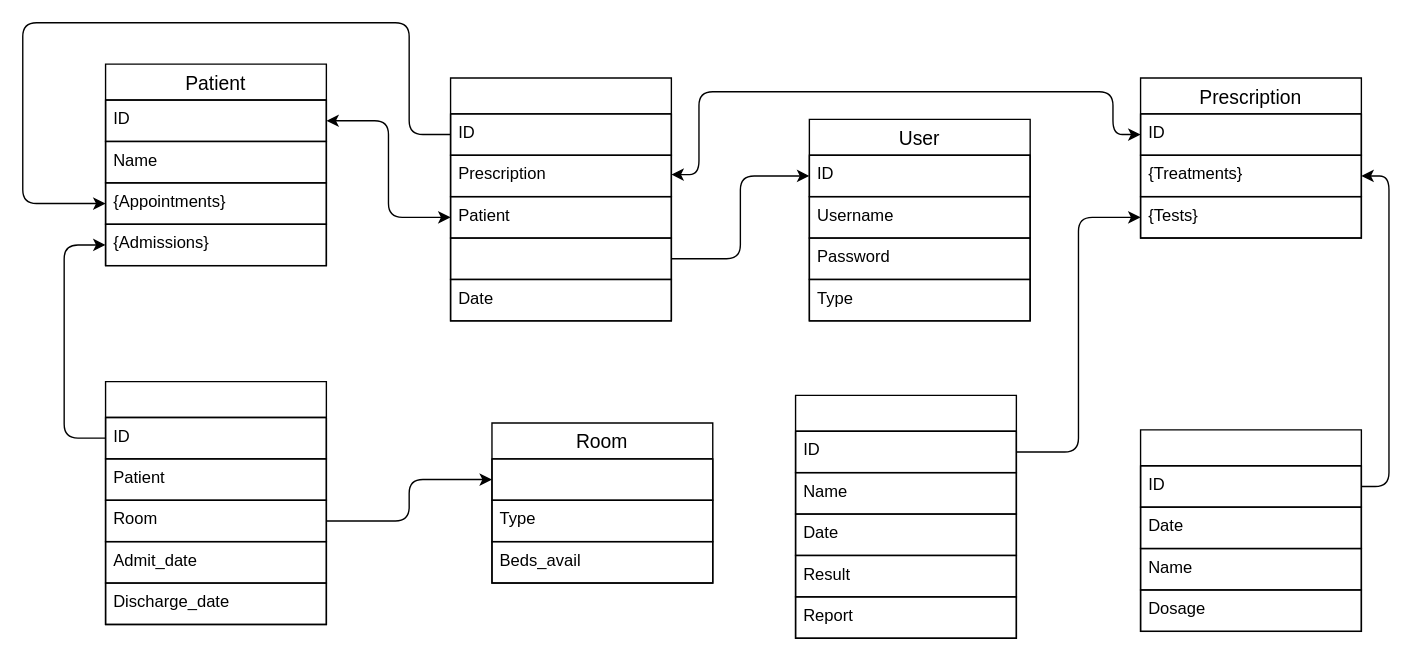
Some shapes in this 1412 by 661 pixel diagram are drawn without their labels. The shapes that lost their labels are listed below. From the top down, each one's box as (x1, y1, x2, y2) in pixels, then its label:
(449, 77, 671, 321): Appointment
(449, 237, 671, 279): Doctor
(491, 457, 713, 500): Number
(104, 380, 326, 624): Addmission
(794, 394, 1016, 638): Test
(1139, 428, 1361, 631): Treatment
